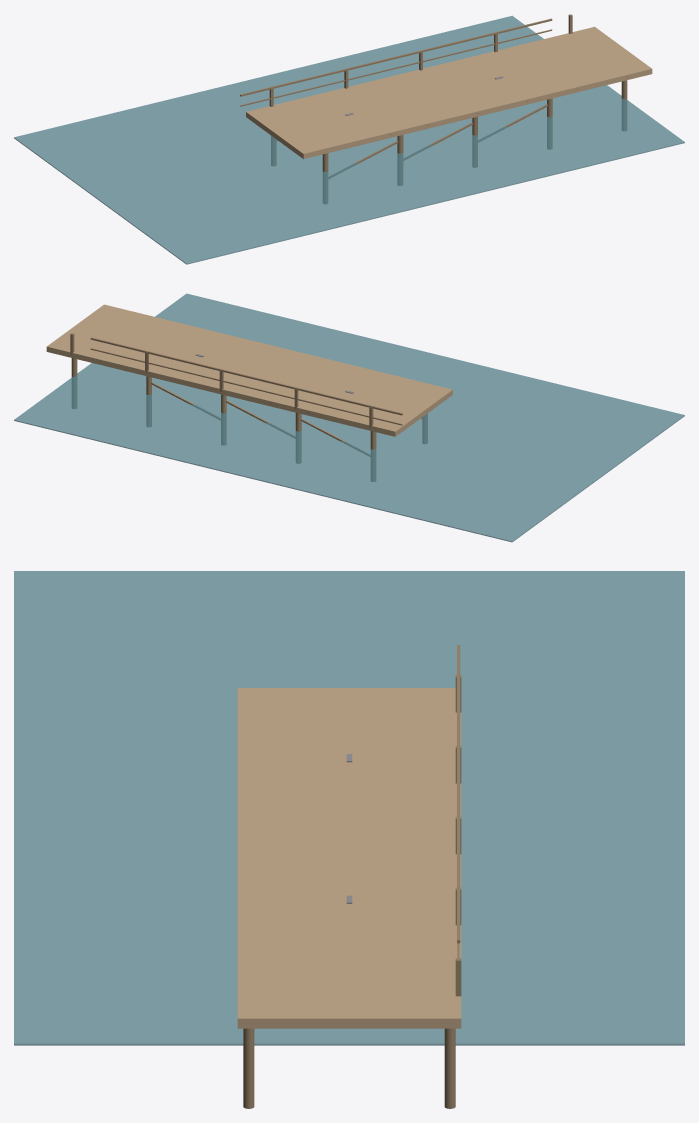
The model's file is pier_dock.glb.
3 renders of one model, top to bottom at view 1: azimuth 30°, elevation 25°; view 2: azimuth 150°, elevation 25°; view 3: azimuth 270°, elevation 25°, orthographic. The views are drawn at different scales.
Parts seen in each view (by area): view 1: water, deck, end_deck, rail_top, rail_mid; view 2: water, deck, end_deck, rail_top, rail_mid; view 3: water, deck, end_deck, rail_top, pile_5_l, pile_5_r.
Boxes of the visible parts, box(x1,y1,x2,y2) form: water: box(14, 15, 684, 264); deck: box(246, 39, 602, 158); end_deck: box(545, 26, 652, 85); rail_top: box(240, 18, 552, 96); rail_mid: box(240, 29, 552, 106); water: box(14, 293, 684, 542); deck: box(96, 316, 452, 436); end_deck: box(46, 304, 153, 363); rail_top: box(90, 337, 402, 415); rail_mid: box(90, 348, 402, 425); water: box(14, 571, 684, 1045); deck: box(237, 688, 461, 971); end_deck: box(237, 971, 461, 1028); rail_top: box(457, 645, 460, 943); pile_5_l: box(444, 1028, 455, 1108); pile_5_r: box(243, 1028, 254, 1108).
Size of the model in its own units: 21 by 2.93 by 12.
